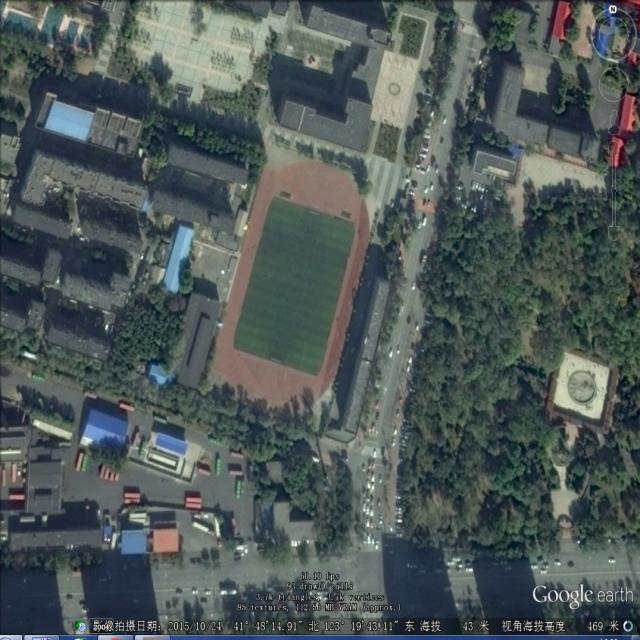playground: (210, 158, 373, 423)
